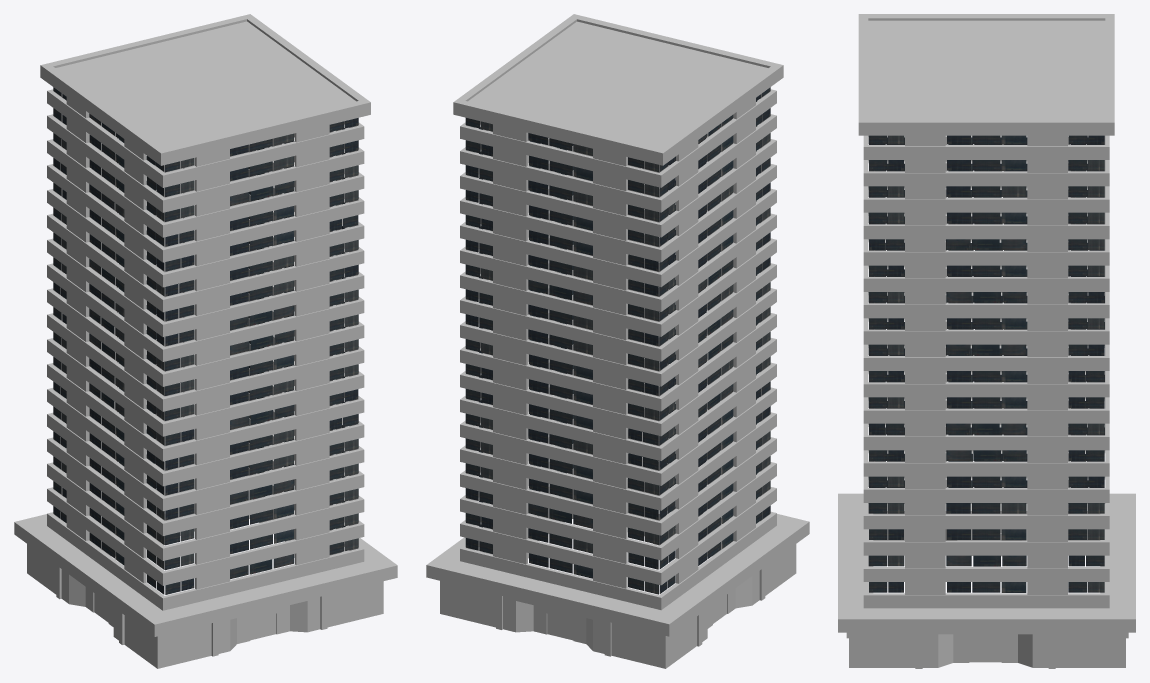
3 renders of one model, left to right at view 1: azimuth 30°, elevation 25°; view 2: azimuth 150°, elevation 25°; view 3: azimuth 270°, elevation 25°, orthographic. The views are drawn at different scales.
Visible parts, largest first — view 1: EC-027; view 2: EC-027; view 3: EC-027.
Part boxes in pixels (box(x1,y1,x2,y2)): EC-027: box(14, 14, 397, 668); EC-027: box(426, 14, 809, 668); EC-027: box(838, 14, 1135, 668).
Size of what is drawn, in the model's own units: 30.69 by 61.54 by 30.69.
